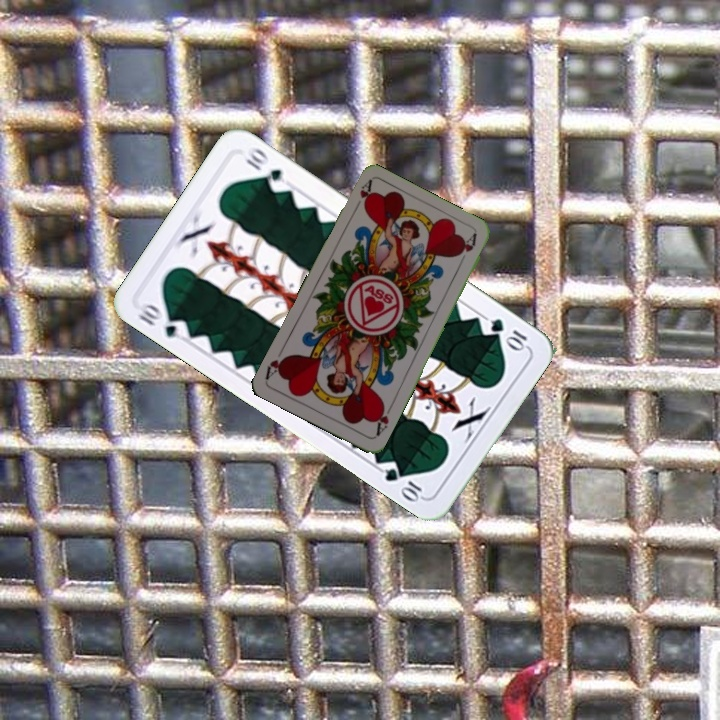G10: (133, 298, 192, 343), (486, 314, 532, 353)
HA: (349, 177, 375, 215), (371, 399, 395, 439)
